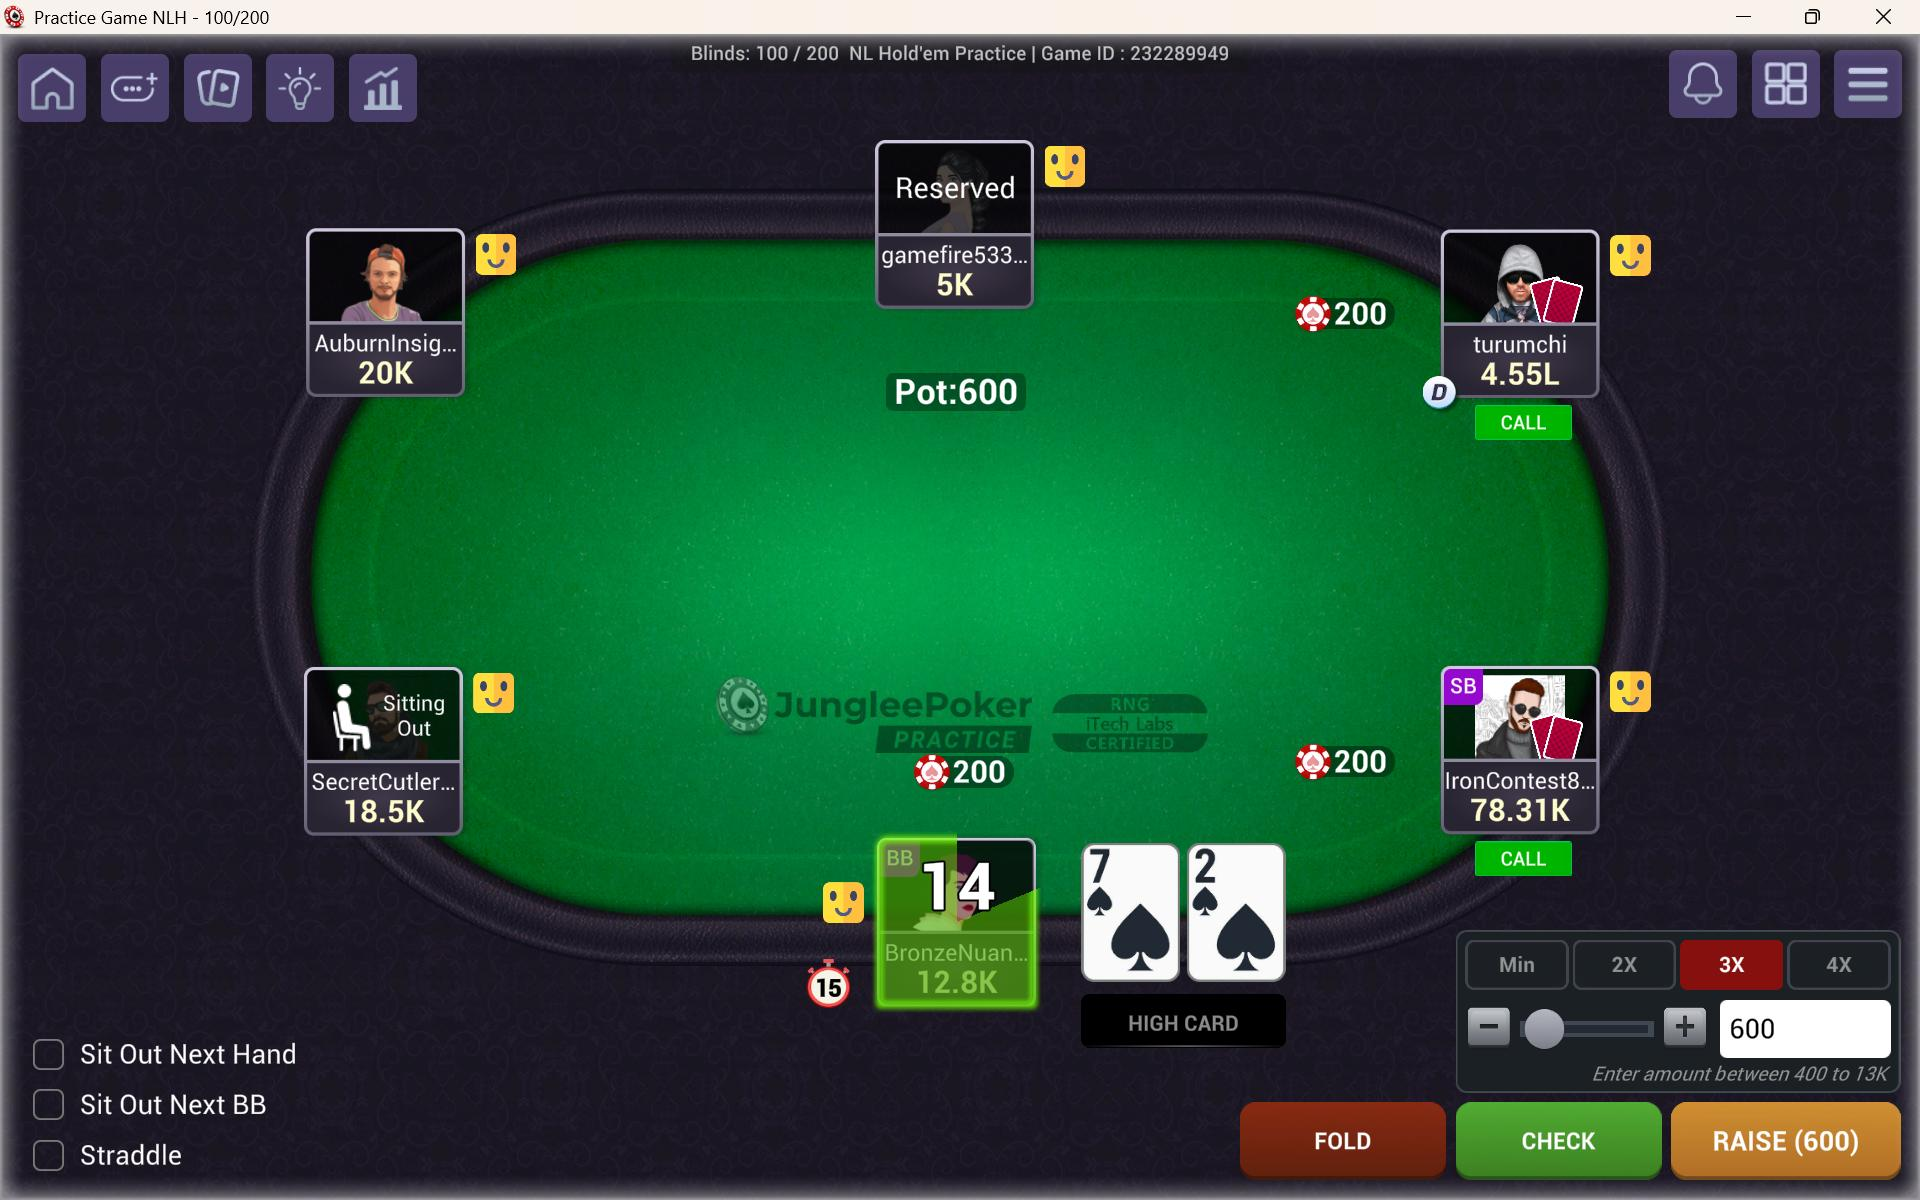button_check: (1458, 1105, 1660, 1175)
button_fold: (1238, 1102, 1448, 1168)
button_raise: (1672, 1102, 1900, 1178)
card1_rank: (1082, 842, 1135, 888)
card1_suite_spades: (1112, 898, 1175, 980)
card2_rank: (1185, 845, 1252, 888)
card2_suite_spades: (1218, 900, 1280, 980)
game_id: (1032, 42, 1288, 75)
iinput_field: (1718, 1000, 1890, 1062)
my_bet: (912, 752, 1020, 793)
my_stack: (902, 970, 1010, 1000)
position_BB: (878, 840, 920, 878)
position_SB: (1448, 670, 1483, 705)
total_pot: (885, 368, 1028, 412)
villian1_name: (313, 767, 458, 795)
villian1_stack: (335, 792, 440, 830)
villian2_name: (308, 330, 465, 352)
villian2_stack: (340, 360, 422, 390)
villian3_name: (873, 242, 1035, 270)
villian3_stack: (918, 270, 987, 300)
villian4_bet: (1292, 292, 1402, 335)
villian4_name: (1448, 327, 1590, 358)
villian4_stack: (1465, 358, 1562, 388)
villian5_bet: (1290, 735, 1397, 785)
villian5_name: (1450, 765, 1598, 798)
villian5_stack: (1455, 795, 1585, 832)
